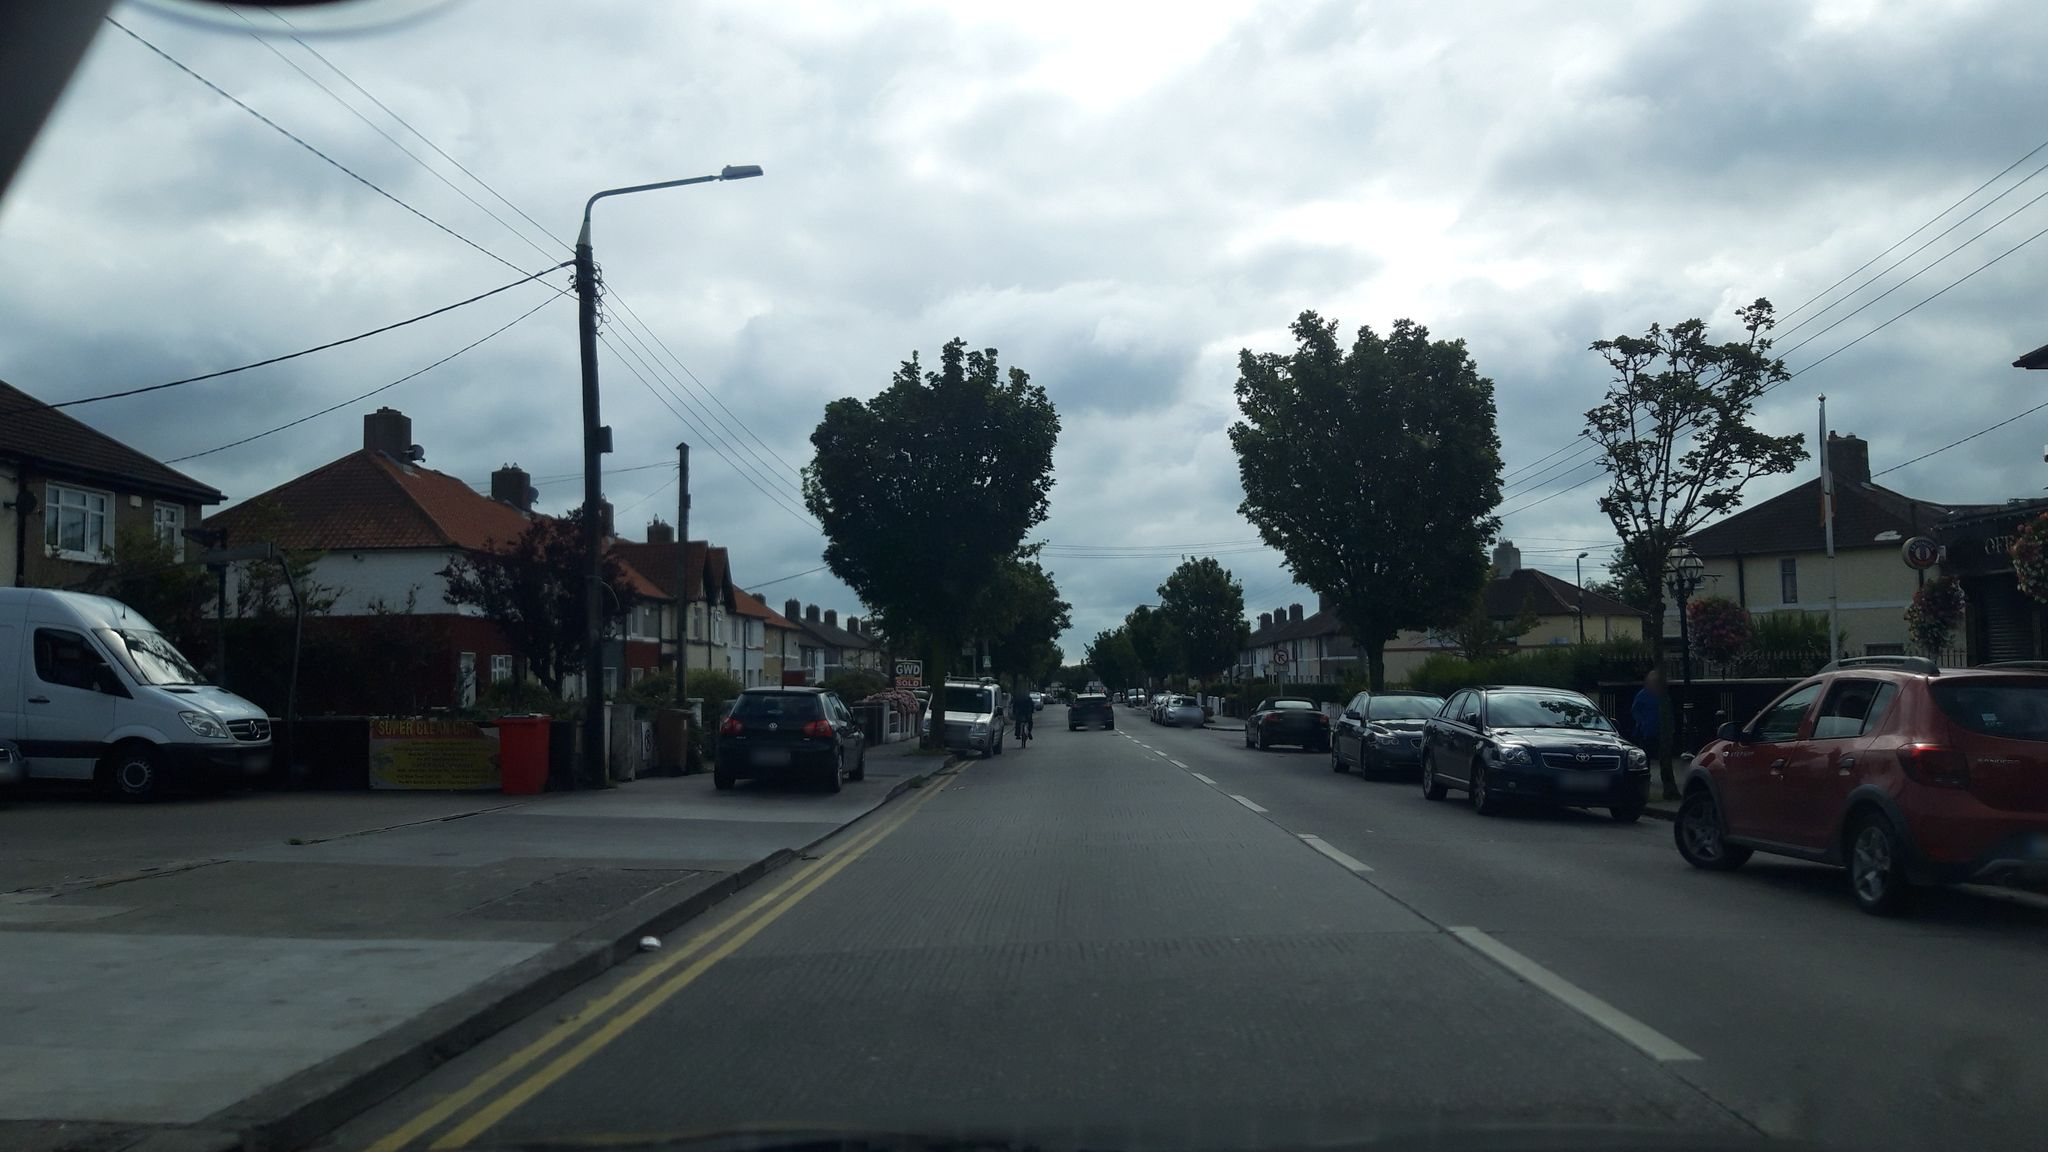property sign: (876, 634, 935, 698)
